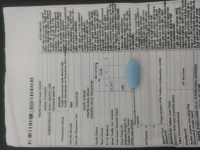Apranax: (124, 59, 141, 89)
